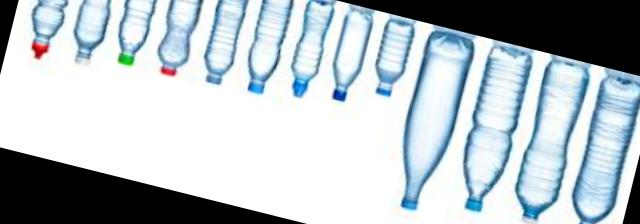plastic: (400, 31, 474, 210), (515, 61, 589, 224), (463, 44, 530, 211), (572, 76, 640, 224), (291, 0, 334, 98), (248, 0, 291, 93), (332, 9, 371, 101), (204, 0, 246, 84), (157, 0, 200, 77), (375, 19, 414, 96), (117, 0, 154, 66), (74, 0, 109, 64), (31, 0, 65, 57)
